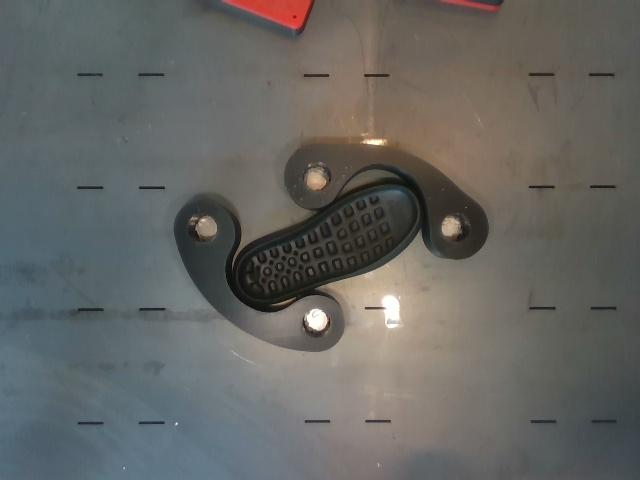shoes: (237, 185, 418, 300)
